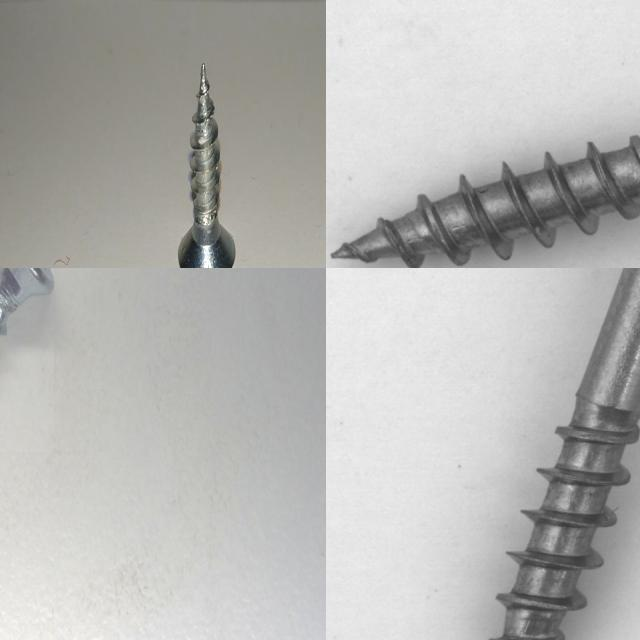Screw: (326, 0, 640, 268), (470, 268, 640, 640), (178, 62, 236, 268), (0, 268, 54, 334)
